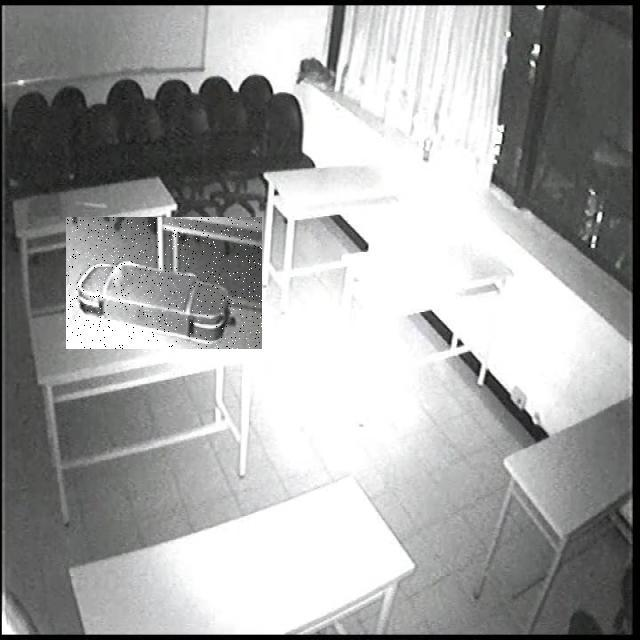abandoned-object: (66, 217, 262, 349)
